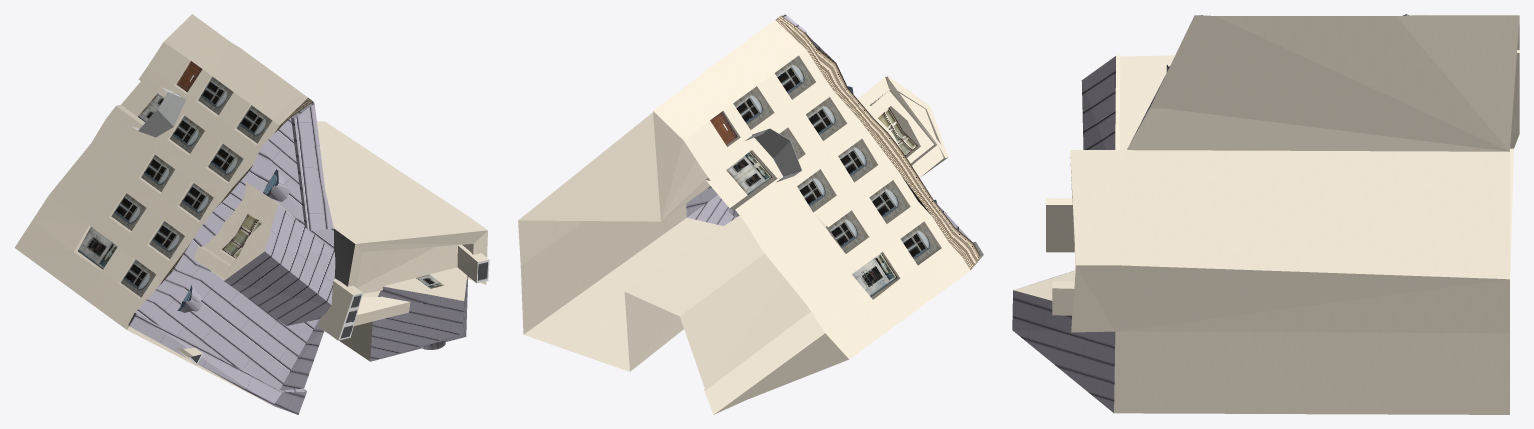
File: Lyhike_jalg_5-origo.obj
3 renders of one model, left to right at view 1: azimuth 30°, elevation 25°; view 2: azimuth 150°, elevation 25°; view 3: azimuth 270°, elevation 25°, orthographic. The views are drawn at different scales.
Visible parts, largest first — view 1: Lyhike_jalg_5; view 2: Lyhike_jalg_5; view 3: Lyhike_jalg_5.
Boxes of the visible parts, bbox=[...] form: Lyhike_jalg_5: bbox=[14, 14, 489, 414]; Lyhike_jalg_5: bbox=[518, 14, 983, 414]; Lyhike_jalg_5: bbox=[1012, 14, 1519, 414].
Bounding box in the file's own units: 15.69 × 13 × 16.55.
